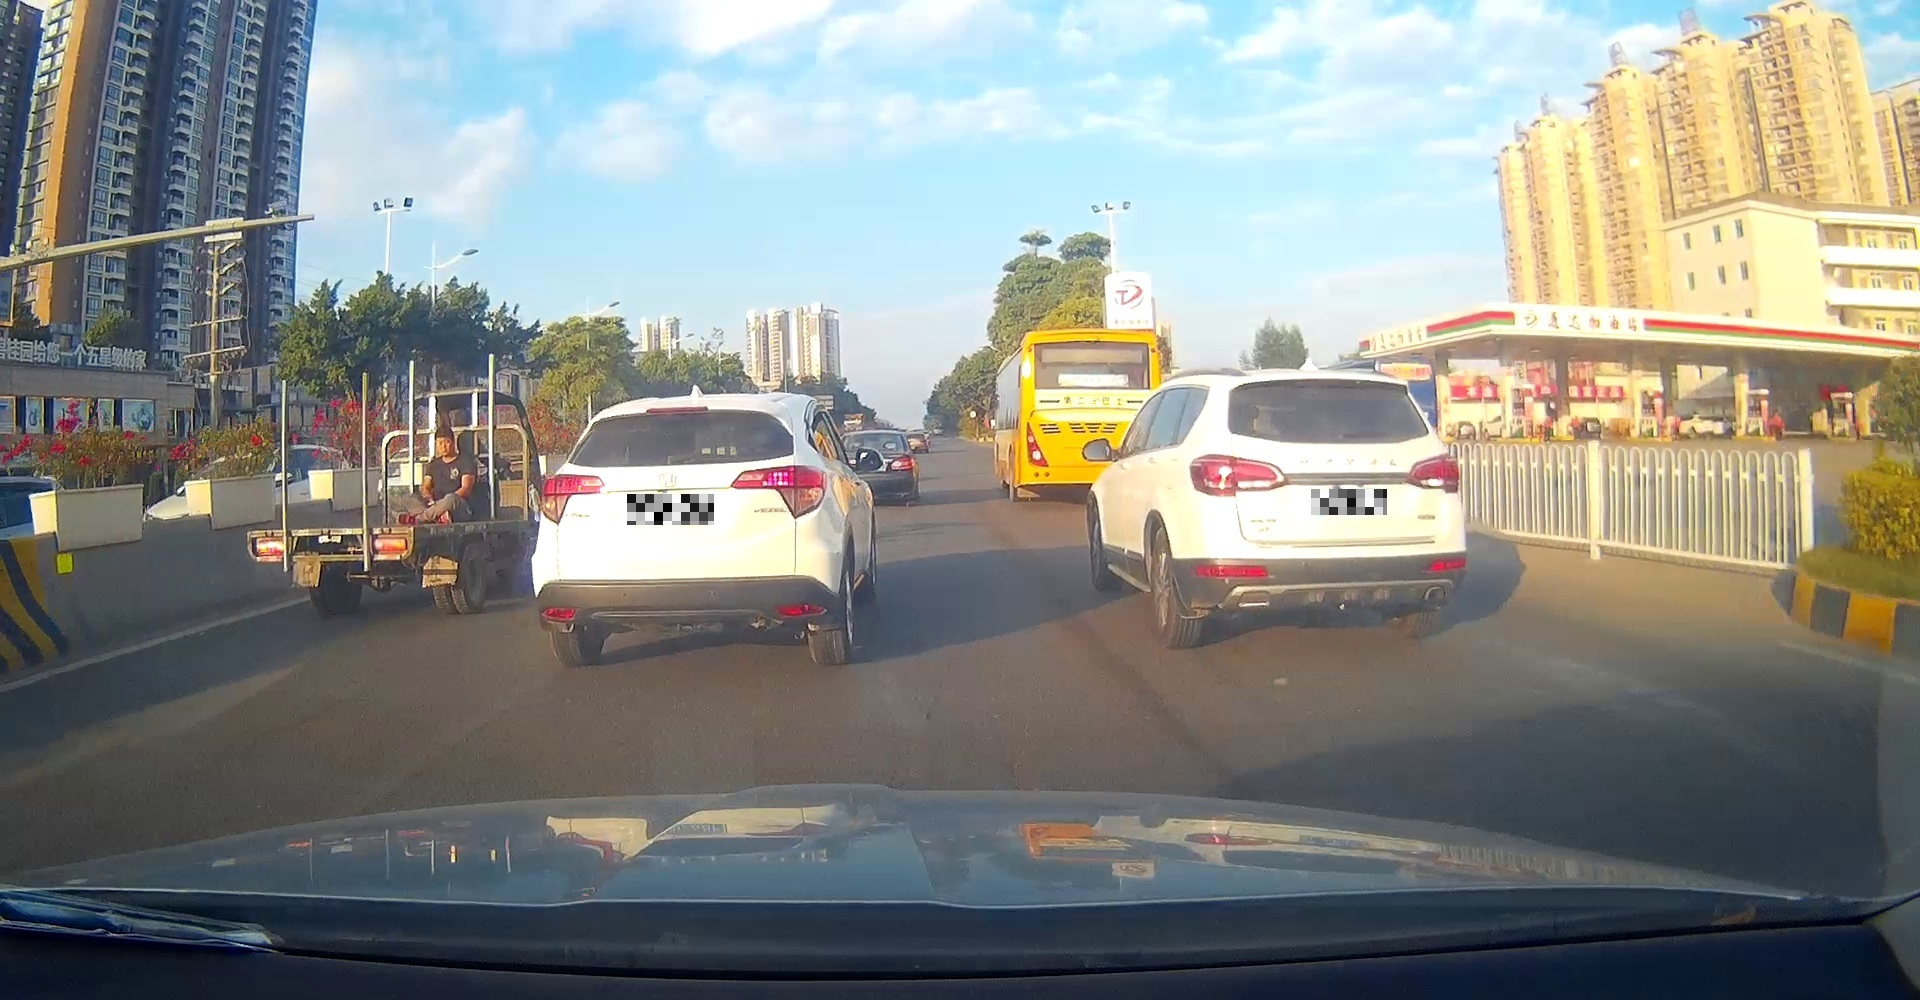L_light: (1189, 454, 1290, 497), (541, 475, 610, 527)
R_light: (730, 464, 828, 520), (1404, 452, 1460, 494)
T_light: (1298, 379, 1356, 388), (646, 406, 709, 414)
day-no: (531, 393, 841, 664), (1186, 367, 1468, 650)
plate_1: (627, 494, 714, 525)
plate_2: (1310, 489, 1387, 515)
